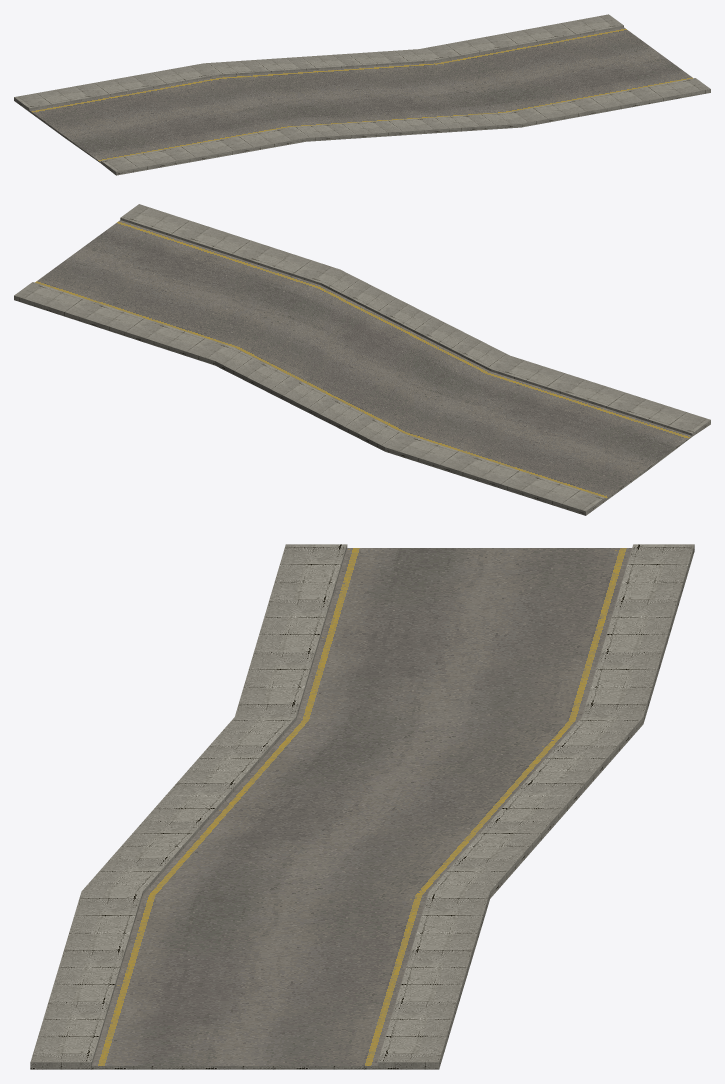
Rendered from road_2_sheer.glb.
3 views of the same model, one above another, from view 1: azimuth 30°, elevation 25°; view 2: azimuth 150°, elevation 25°; view 3: azimuth 270°, elevation 25° (orthographic). The views are drawn at different scales.
Parts seen in each view (by area): view 1: road_2_sheer; view 2: road_2_sheer; view 3: road_2_sheer.
Part boxes in pixels (box(x1,y1,x2,y2)): road_2_sheer: box(14, 14, 710, 175); road_2_sheer: box(14, 204, 710, 515); road_2_sheer: box(30, 544, 694, 1069).
Size of the model in its own units: 48 by 0.4 by 26.
2 materials, 2 textured.
